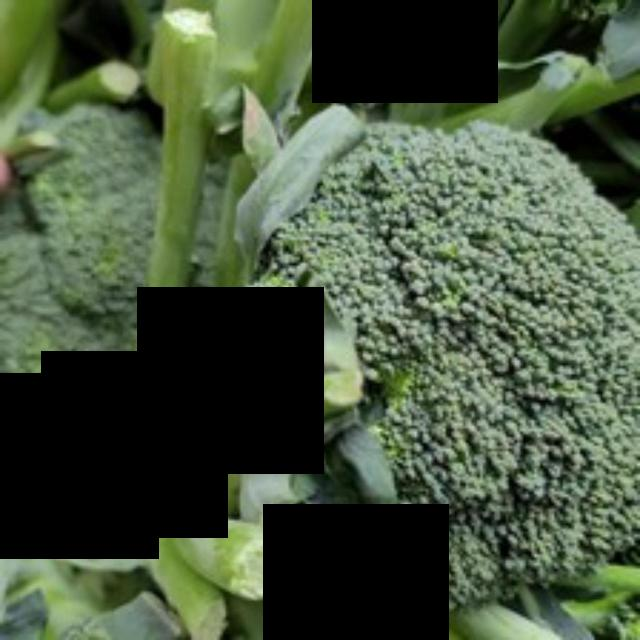broccoli: (214, 102, 637, 602)
